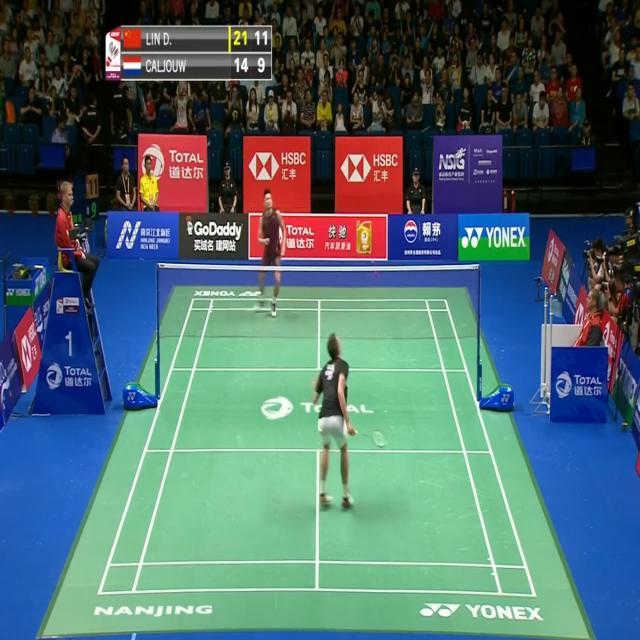Player1: (308, 332, 388, 516)
Player2: (252, 187, 288, 325)
